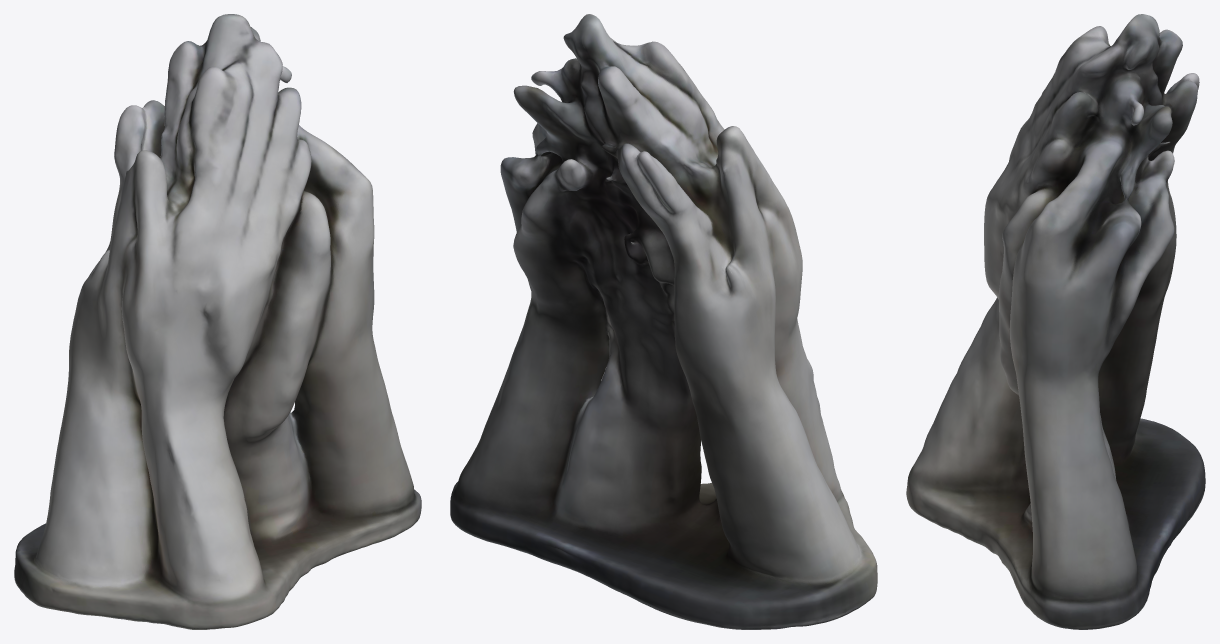
The model's file is e5d3d03b75aa_hands_sculpture__3d.fbx.
The picture shows the model from 3 angles, left to right: view 1: azimuth 30°, elevation 25°; view 2: azimuth 150°, elevation 25°; view 3: azimuth 270°, elevation 25°; orthographic projection. The views are drawn at different scales.
Parts seen in each view (by area): view 1: high_poly; view 2: high_poly; view 3: high_poly.
Part boxes in pixels (x1,y1,x2,y2): high_poly: (14, 14, 421, 629); high_poly: (450, 14, 877, 629); high_poly: (906, 14, 1205, 629).
Size of the model in its own units: 78.14 by 100 by 50.26.
